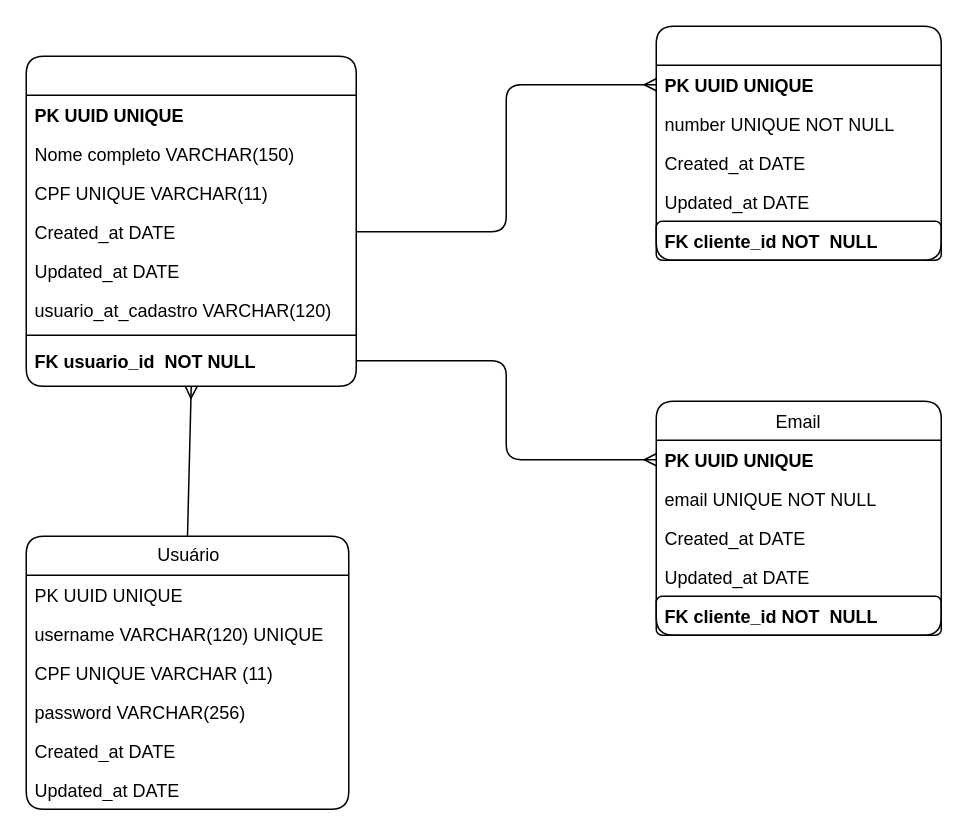
The diagram is 968 pixels wide and 840 high, and some of its shapes have lost their labels. Each missing label, with the box of its shape:
Cliente: (25, 55, 356, 386)
Telefone: (655, 25, 941, 260)
